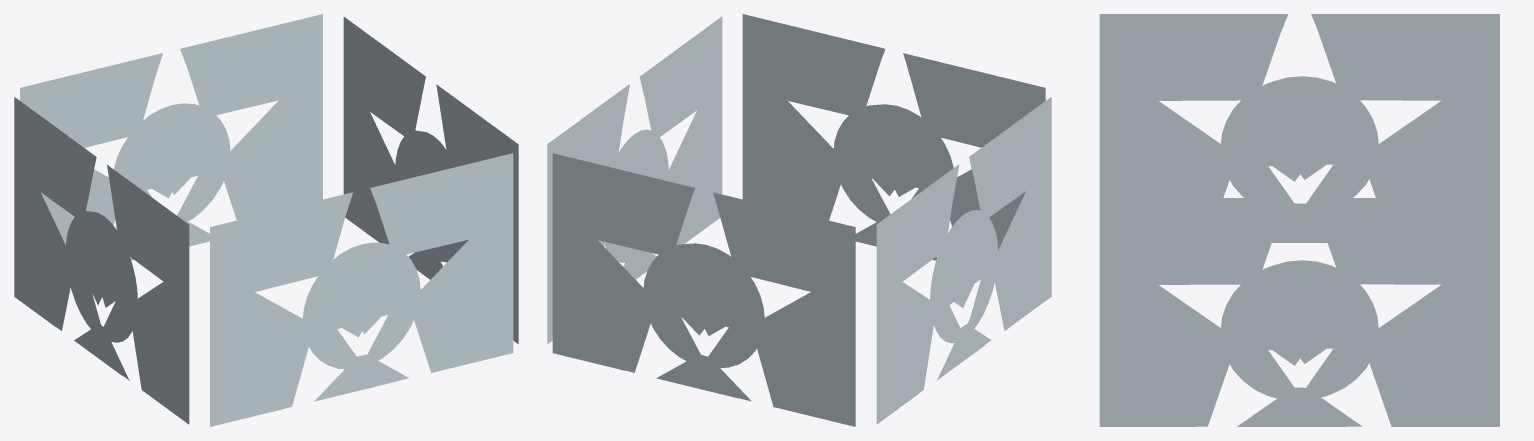
File: FshiInk(w).obj
3 renders of one model, left to right at view 1: azimuth 30°, elevation 25°; view 2: azimuth 150°, elevation 25°; view 3: azimuth 270°, elevation 25°, orthographic. The views are drawn at different scales.
Visible parts, largest first — view 1: Plane.004_Plane.008; view 2: Plane.004_Plane.008; view 3: Plane.004_Plane.008.
Boxes of the visible parts, x1,y1,x2,y2 form: Plane.004_Plane.008: (14, 14, 518, 426); Plane.004_Plane.008: (547, 14, 1051, 426); Plane.004_Plane.008: (1099, 14, 1499, 426).
Bounding box in the file's own units: 3.48 × 2 × 3.48.
